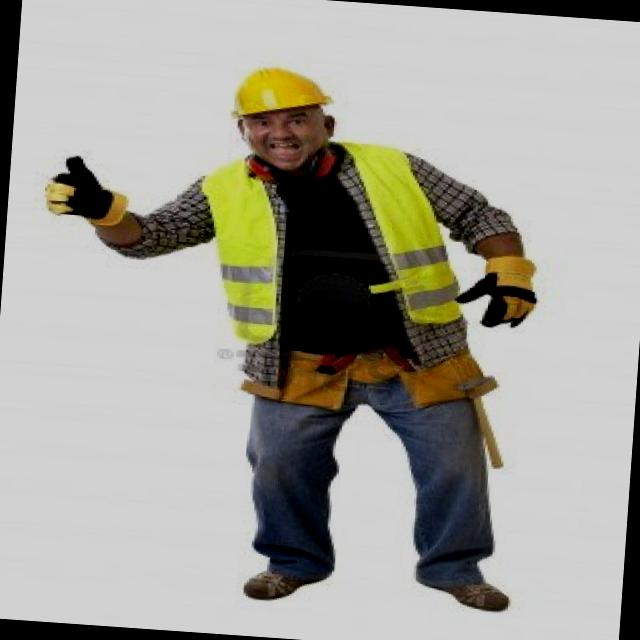helmet: (208, 61, 329, 120)
no-goggles: (232, 109, 336, 133)
vest: (179, 132, 466, 361)
